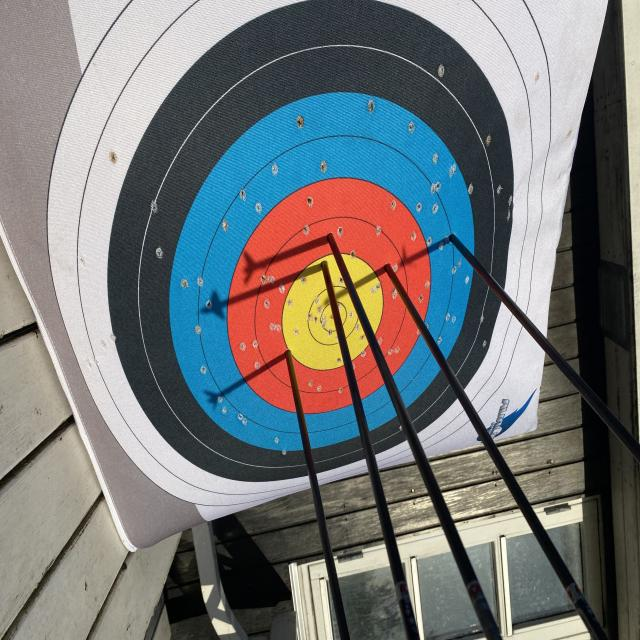Arrow_Blue: (437, 222, 463, 253)
Arrow_Red: (377, 246, 401, 286), (323, 219, 341, 253), (278, 340, 298, 370)
Arrow_Yellow: (310, 252, 332, 282)
